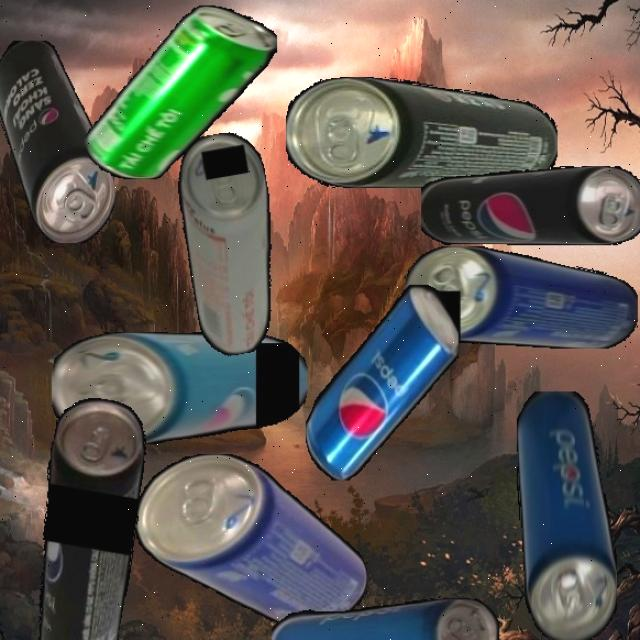debris: (136, 453, 368, 626), (13, 392, 158, 640), (85, 4, 277, 180), (286, 76, 557, 188), (304, 284, 458, 481), (168, 128, 295, 360), (52, 331, 308, 444), (516, 390, 617, 640), (404, 245, 638, 349), (0, 39, 114, 243), (420, 166, 640, 245), (271, 598, 499, 640)
